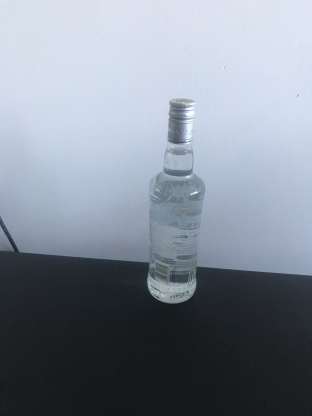nakretka: (165, 95, 197, 146)
